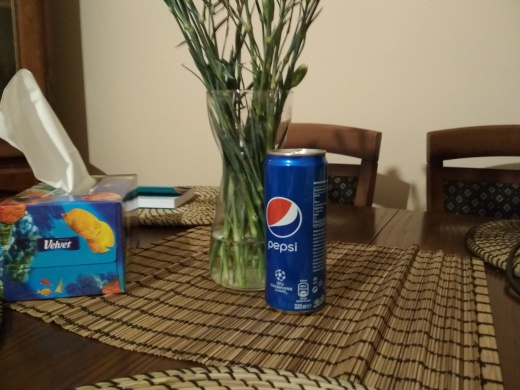pepsi: (259, 144, 330, 317)
